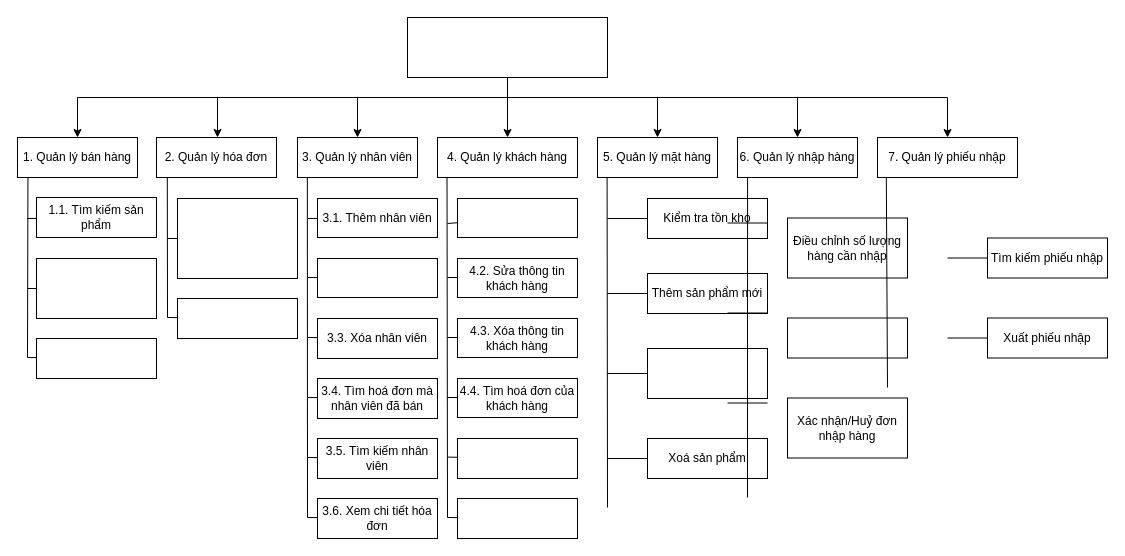
Image size: 1125x556. Some labels were removed from this diagram. The shapes that lost their labels are listed below. From the top down, each one's centre as x and y in pixels, then its label:
At (x=507, y=47): "Cửa hàng tiện lợi - Mini Store".
At (x=237, y=238): "2.1. Tìm kiếm hóa đơn dựa theo mã nhân viên/mã khách hàng/mã hoá đơn".
At (x=517, y=218): "4.1. Thêm thông tin khách hàng".
At (x=96, y=288): "1.2. Tăng/Giảm số lượng sản phẩm trong giỏ hàng".
At (x=377, y=278): "3.2. Sửa nhân viên".
At (x=237, y=318): "2.2. Chi tiết hoá đơn".
At (x=847, y=337): "Xoá mặt hàng nhập".
At (x=96, y=358): "1.3. Lập/Huỷ hóa đơn".
At (x=707, y=373): "Sửa thông tin sản phẩm".
At (x=517, y=458): "4.5 Tìm khách hàng".
At (x=517, y=518): "4.6. Xem chi tiết hóa đơn".
